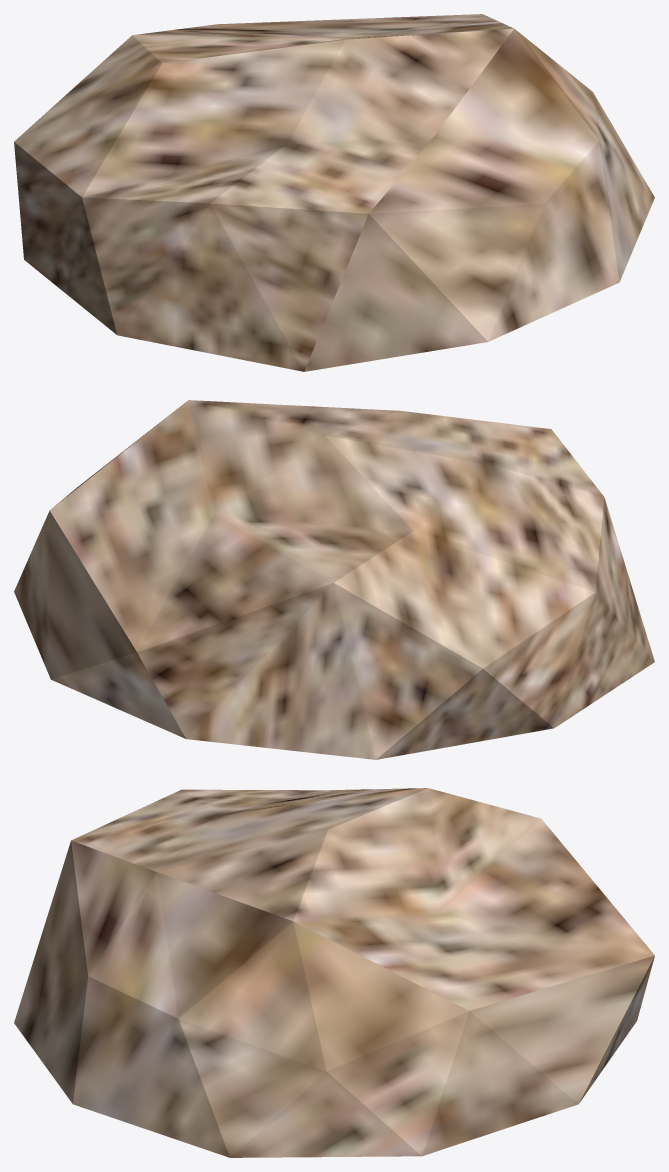
File: Low_poly_Bedding.fbx
3 views of the same model, one above another, from view 1: azimuth 30°, elevation 25°; view 2: azimuth 150°, elevation 25°; view 3: azimuth 270°, elevation 25° (orthographic). The views are drawn at different scales.
Visible parts, largest first — view 1: Icosphere; view 2: Icosphere; view 3: Icosphere.
Boxes of the visible parts, x1,y1,x2,y2 form: Icosphere: [14, 14, 654, 371]; Icosphere: [14, 400, 654, 759]; Icosphere: [14, 788, 654, 1157].
Bounding box in the file's own units: 285 × 102 × 282.
